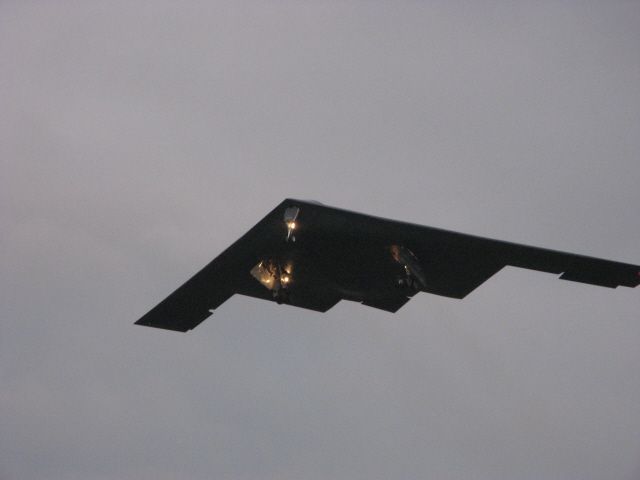B2: (133, 197, 640, 334)
